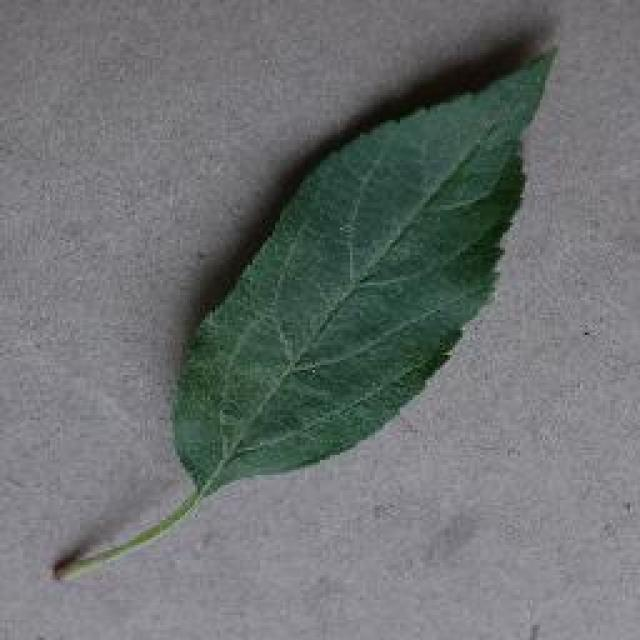apple healthy: (48, 22, 560, 582)
